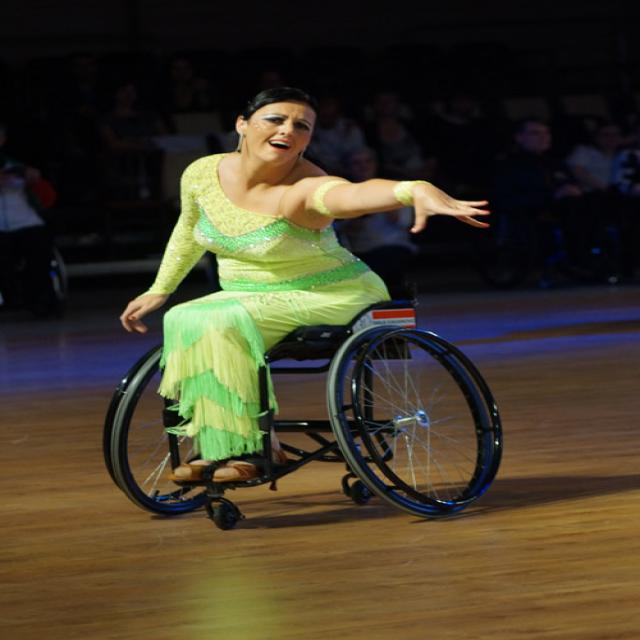wheelchairs: (86, 254, 528, 534)
